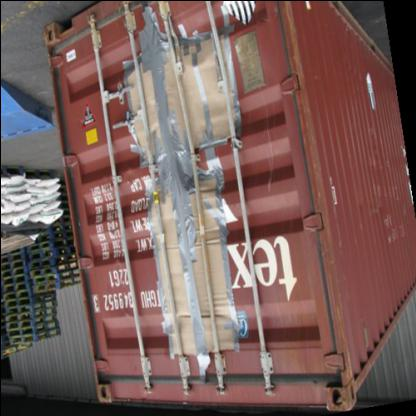Damage: (101, 9, 251, 377)
